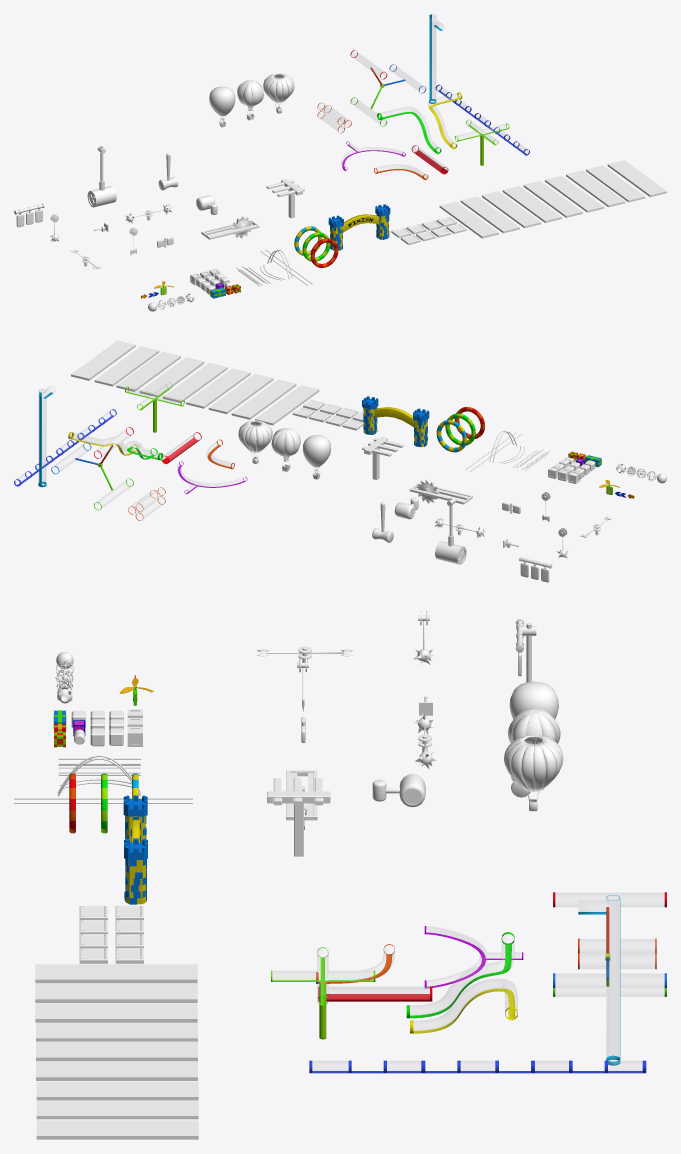
3 renders of one model, top to bottom at view 1: azimuth 30°, elevation 25°; view 2: azimuth 150°, elevation 25°; view 3: azimuth 270°, elevation 25°, orthographic. The views are drawn at different scales.
Visible parts, largest first — view 1: node_30e90635_7a04_4562_ba57_0b5d7958a172_mesh0, node_9b45a369_1b6e_4278_85e4_b929768d76bd_mesh0, node_6ab75a65_246e_4c96_adb8_41f60d6d0fd0_mesh0, node_57ce7c3f_8189_4888_9132_06bb56fea82f_mesh0, node_3470df7d_3e4c_4539_8b04_5da535ae14da_mesh0, node_474048cd_a1d8_4948_88a3_521943a0978b_mesh0, node_b519c384_291d_47e4_b485_ce3347ceb181_mesh0, node_0f7ecd39_e1a6_4ae2_ae1f_5090c66c11cb_mesh0, node_1fcfc66b_f360_4b63_9193_175b1e93570e_mesh0, node_aeb84eff_4fd1_4a45_bbfb_d65e44155b4e_mesh0, node_4d6f0c6f_233e_47f3_ac11_b26b70619110_mesh0, node_21a3a672_ed27_4069_98bd_8627ccc40486_mesh0 (+5 smaller); view 2: node_57ce7c3f_8189_4888_9132_06bb56fea82f_mesh0, node_1fcfc66b_f360_4b63_9193_175b1e93570e_mesh0, node_9b45a369_1b6e_4278_85e4_b929768d76bd_mesh0, node_6ab75a65_246e_4c96_adb8_41f60d6d0fd0_mesh0, node_30e90635_7a04_4562_ba57_0b5d7958a172_mesh0, node_3470df7d_3e4c_4539_8b04_5da535ae14da_mesh0, node_474048cd_a1d8_4948_88a3_521943a0978b_mesh0, node_b519c384_291d_47e4_b485_ce3347ceb181_mesh0, node_0f7ecd39_e1a6_4ae2_ae1f_5090c66c11cb_mesh0, node_aeb84eff_4fd1_4a45_bbfb_d65e44155b4e_mesh0, node_4d6f0c6f_233e_47f3_ac11_b26b70619110_mesh0, node_1808dd77_267c_477c_8577_6c104541240c_mesh0 (+10 smaller); view 3: node_b519c384_291d_47e4_b485_ce3347ceb181_mesh0, node_30e90635_7a04_4562_ba57_0b5d7958a172_mesh0, node_1fcfc66b_f360_4b63_9193_175b1e93570e_mesh0, node_9b45a369_1b6e_4278_85e4_b929768d76bd_mesh0, node_6ab75a65_246e_4c96_adb8_41f60d6d0fd0_mesh0, node_474048cd_a1d8_4948_88a3_521943a0978b_mesh0, node_57ce7c3f_8189_4888_9132_06bb56fea82f_mesh0, node_3470df7d_3e4c_4539_8b04_5da535ae14da_mesh0, node_0f7ecd39_e1a6_4ae2_ae1f_5090c66c11cb_mesh0, node_aeb84eff_4fd1_4a45_bbfb_d65e44155b4e_mesh0, node_4ef474b8_8113_4a2f_a836_3a64963f04af_mesh0, node_975531b0_8011_4bce_bb54_a0b815f412cb_mesh0 (+18 smaller).
Part boxes in pixels (bbox=[...]): node_30e90635_7a04_4562_ba57_0b5d7958a172_mesh0: bbox=[607, 160, 666, 197]; node_9b45a369_1b6e_4278_85e4_b929768d76bd_mesh0: bbox=[586, 165, 645, 202]; node_6ab75a65_246e_4c96_adb8_41f60d6d0fd0_mesh0: bbox=[566, 170, 625, 207]; node_57ce7c3f_8189_4888_9132_06bb56fea82f_mesh0: bbox=[502, 186, 561, 222]; node_3470df7d_3e4c_4539_8b04_5da535ae14da_mesh0: bbox=[460, 196, 519, 233]; node_474048cd_a1d8_4948_88a3_521943a0978b_mesh0: bbox=[523, 181, 582, 217]; node_b519c384_291d_47e4_b485_ce3347ceb181_mesh0: bbox=[439, 201, 498, 238]; node_0f7ecd39_e1a6_4ae2_ae1f_5090c66c11cb_mesh0: bbox=[545, 175, 604, 212]; node_1fcfc66b_f360_4b63_9193_175b1e93570e_mesh0: bbox=[482, 191, 541, 228]; node_aeb84eff_4fd1_4a45_bbfb_d65e44155b4e_mesh0: bbox=[263, 73, 294, 113]; node_4d6f0c6f_233e_47f3_ac11_b26b70619110_mesh0: bbox=[328, 204, 390, 250]; node_21a3a672_ed27_4069_98bd_8627ccc40486_mesh0: bbox=[87, 145, 116, 207]; node_57ce7c3f_8189_4888_9132_06bb56fea82f_mesh0: bbox=[186, 368, 250, 408]; node_1fcfc66b_f360_4b63_9193_175b1e93570e_mesh0: bbox=[208, 374, 273, 414]; node_9b45a369_1b6e_4278_85e4_b929768d76bd_mesh0: bbox=[94, 346, 159, 386]; node_6ab75a65_246e_4c96_adb8_41f60d6d0fd0_mesh0: bbox=[116, 351, 180, 391]; node_30e90635_7a04_4562_ba57_0b5d7958a172_mesh0: bbox=[71, 340, 135, 380]; node_3470df7d_3e4c_4539_8b04_5da535ae14da_mesh0: bbox=[231, 379, 296, 419]; node_474048cd_a1d8_4948_88a3_521943a0978b_mesh0: bbox=[163, 362, 227, 402]; node_b519c384_291d_47e4_b485_ce3347ceb181_mesh0: bbox=[255, 385, 319, 425]; node_0f7ecd39_e1a6_4ae2_ae1f_5090c66c11cb_mesh0: bbox=[139, 357, 204, 396]; node_aeb84eff_4fd1_4a45_bbfb_d65e44155b4e_mesh0: bbox=[238, 420, 272, 463]; node_4d6f0c6f_233e_47f3_ac11_b26b70619110_mesh0: bbox=[362, 396, 429, 446]; node_1808dd77_267c_477c_8577_6c104541240c_mesh0: bbox=[363, 407, 427, 447]; node_b519c384_291d_47e4_b485_ce3347ceb181_mesh0: bbox=[35, 964, 197, 983]; node_30e90635_7a04_4562_ba57_0b5d7958a172_mesh0: bbox=[36, 1120, 198, 1139]; node_1fcfc66b_f360_4b63_9193_175b1e93570e_mesh0: bbox=[35, 1003, 197, 1022]; node_9b45a369_1b6e_4278_85e4_b929768d76bd_mesh0: bbox=[36, 1100, 198, 1119]; node_6ab75a65_246e_4c96_adb8_41f60d6d0fd0_mesh0: bbox=[36, 1081, 198, 1100]; node_474048cd_a1d8_4948_88a3_521943a0978b_mesh0: bbox=[36, 1042, 197, 1061]; node_57ce7c3f_8189_4888_9132_06bb56fea82f_mesh0: bbox=[36, 1022, 197, 1041]; node_3470df7d_3e4c_4539_8b04_5da535ae14da_mesh0: bbox=[35, 984, 197, 1002]; node_0f7ecd39_e1a6_4ae2_ae1f_5090c66c11cb_mesh0: bbox=[36, 1062, 197, 1080]; node_aeb84eff_4fd1_4a45_bbfb_d65e44155b4e_mesh0: bbox=[504, 735, 563, 811]; node_4ef474b8_8113_4a2f_a836_3a64963f04af_mesh0: bbox=[578, 895, 619, 1057]; node_975531b0_8011_4bce_bb54_a0b815f412cb_mesh0: bbox=[580, 939, 654, 968].
Bounding box in the file's own units: 11755 × 2052 × 6658.
